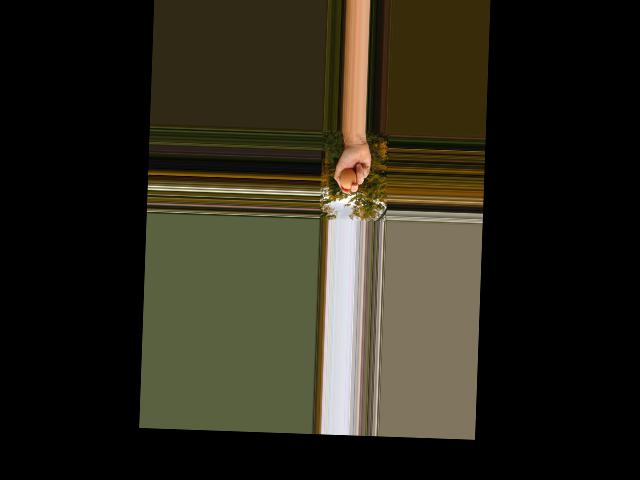egg: (340, 168, 357, 189)
